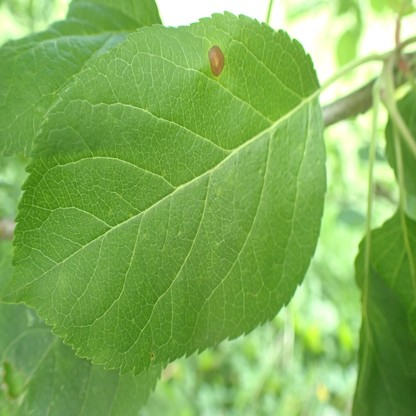frogeye: (208, 45, 225, 77)
